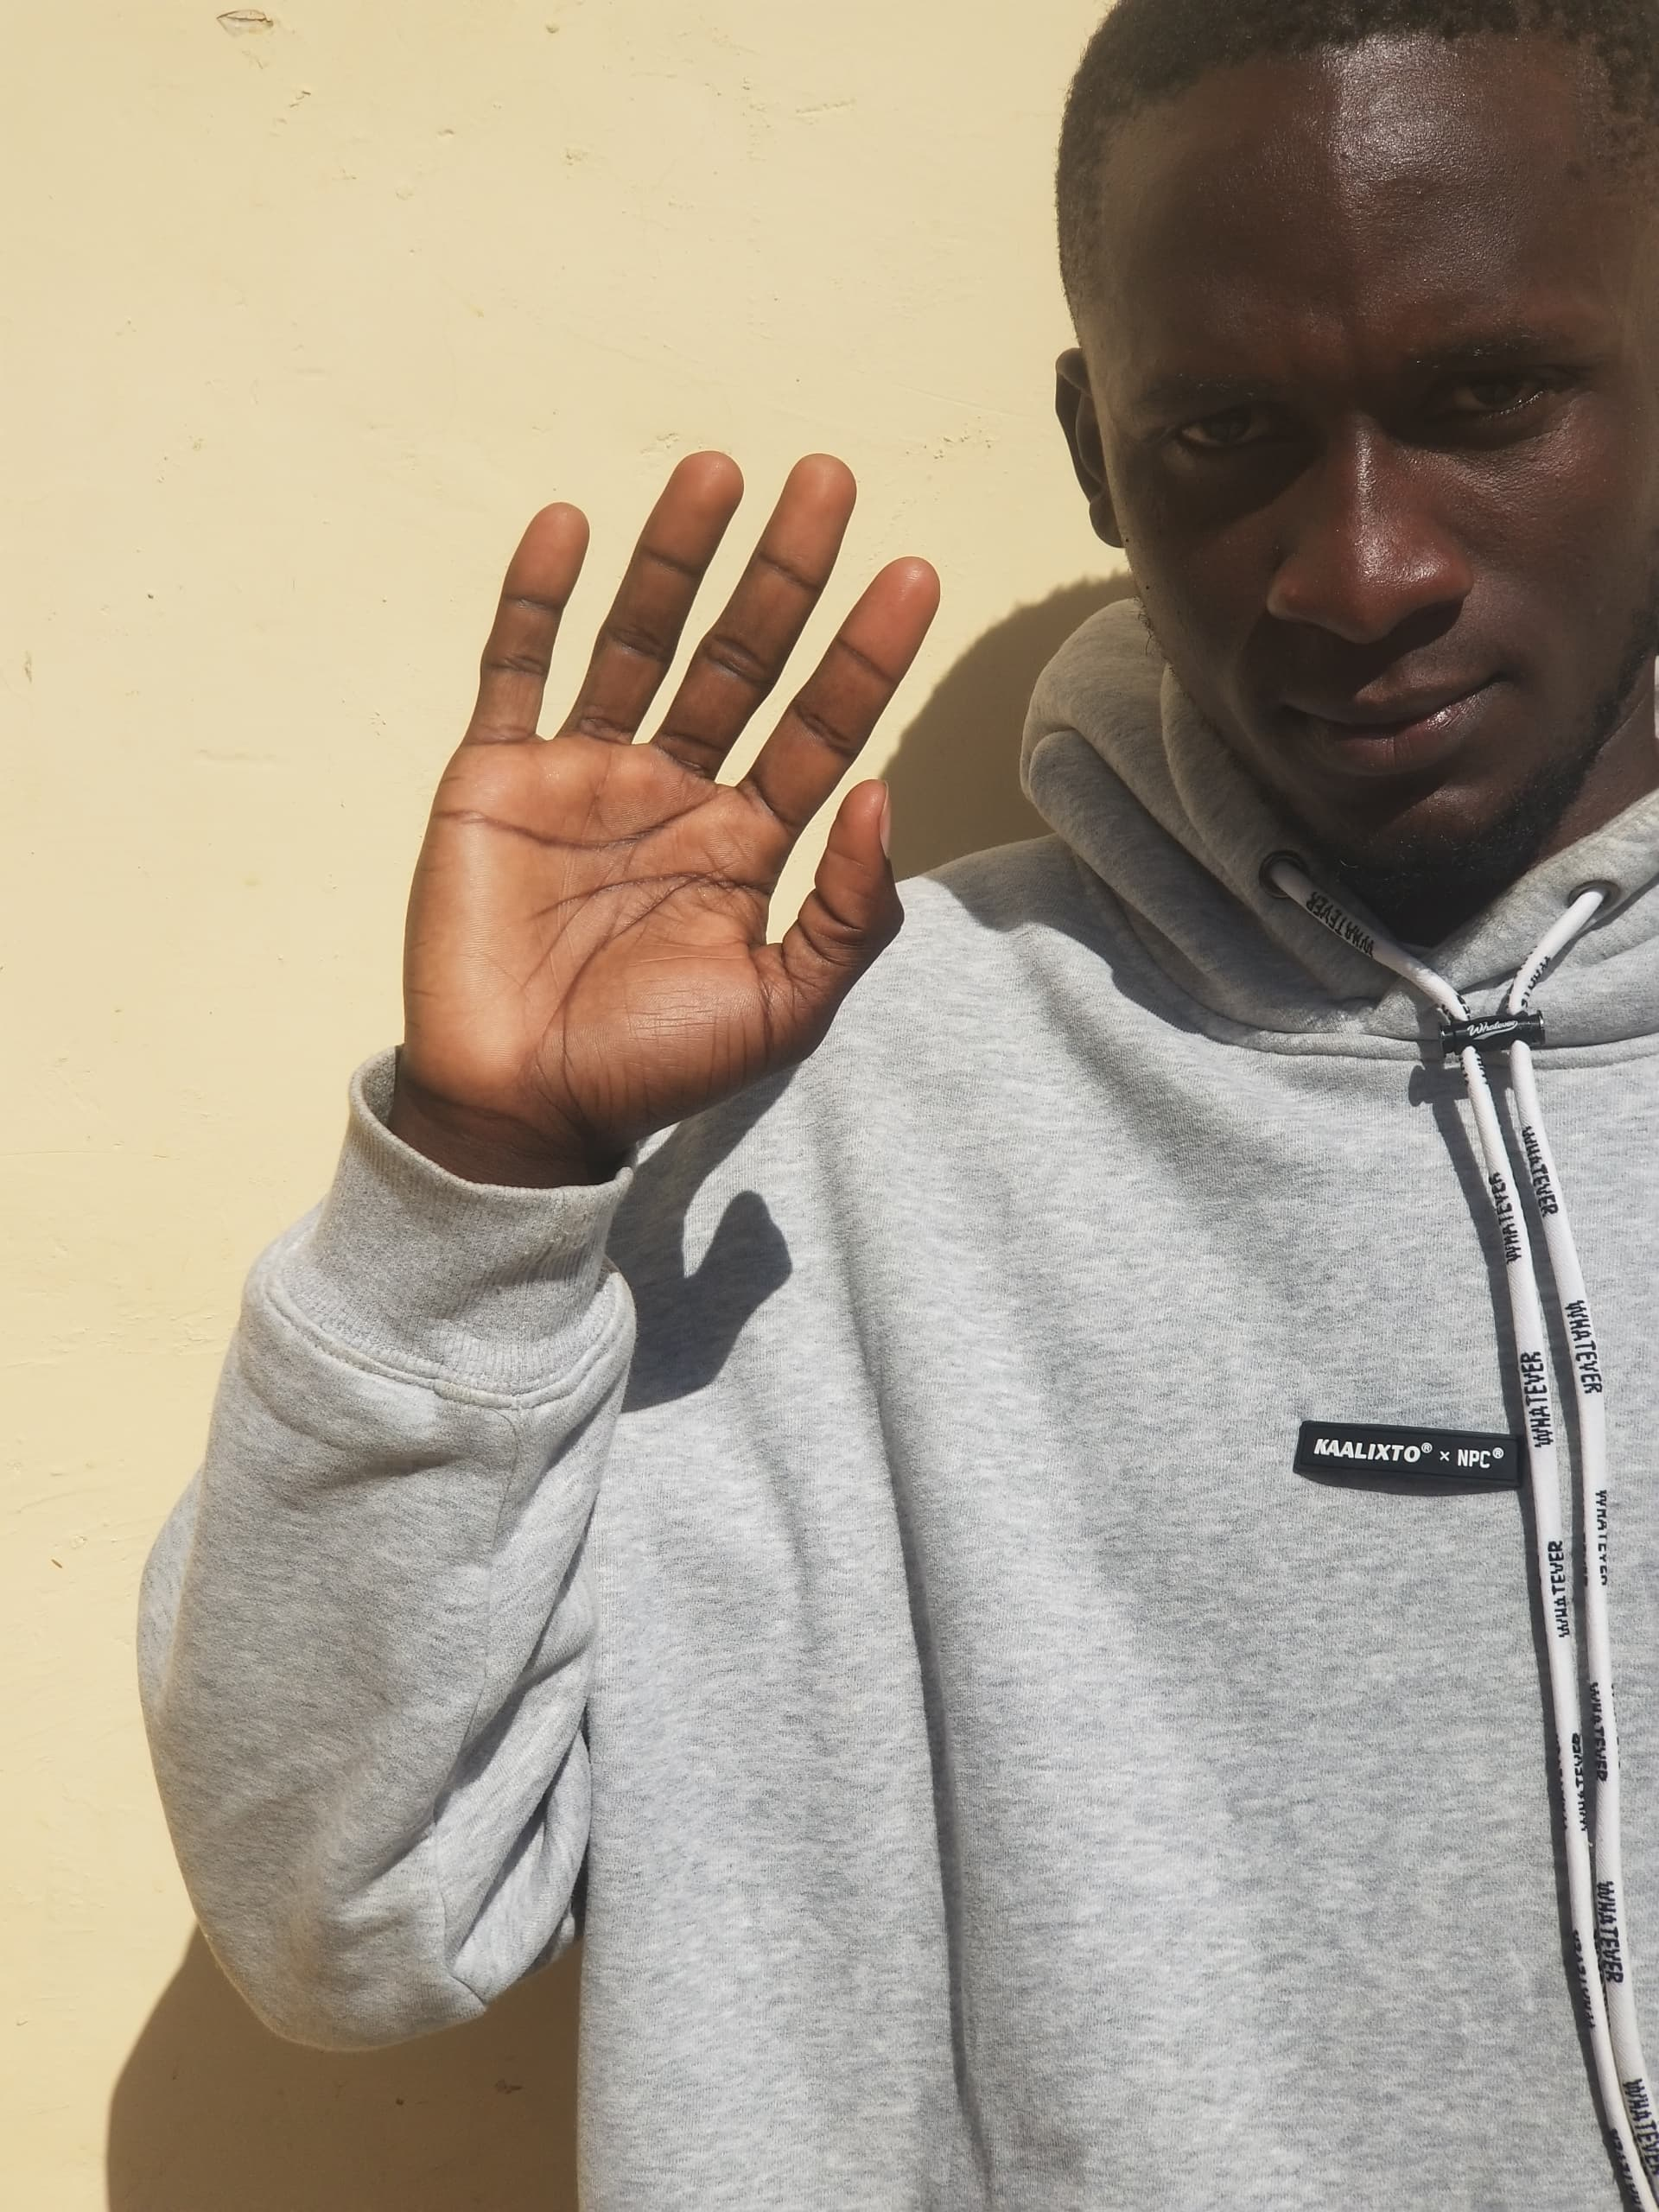hello: (368, 383, 974, 1404)
